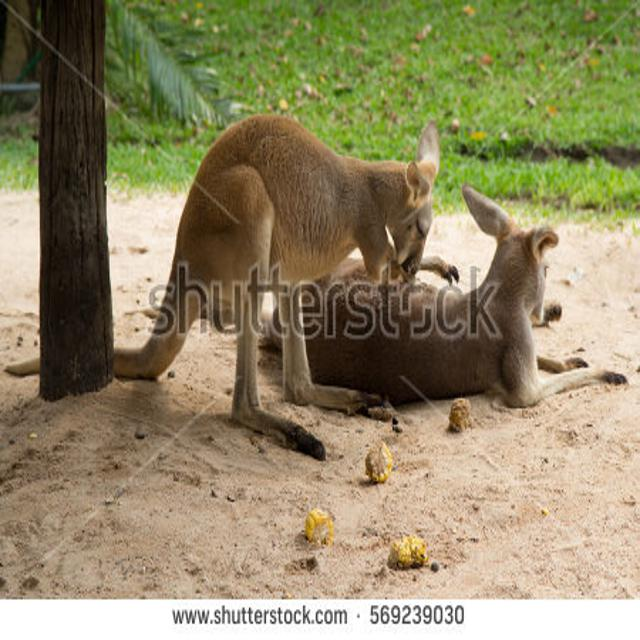kangaroo: (168, 113, 443, 306), (428, 187, 569, 416)
